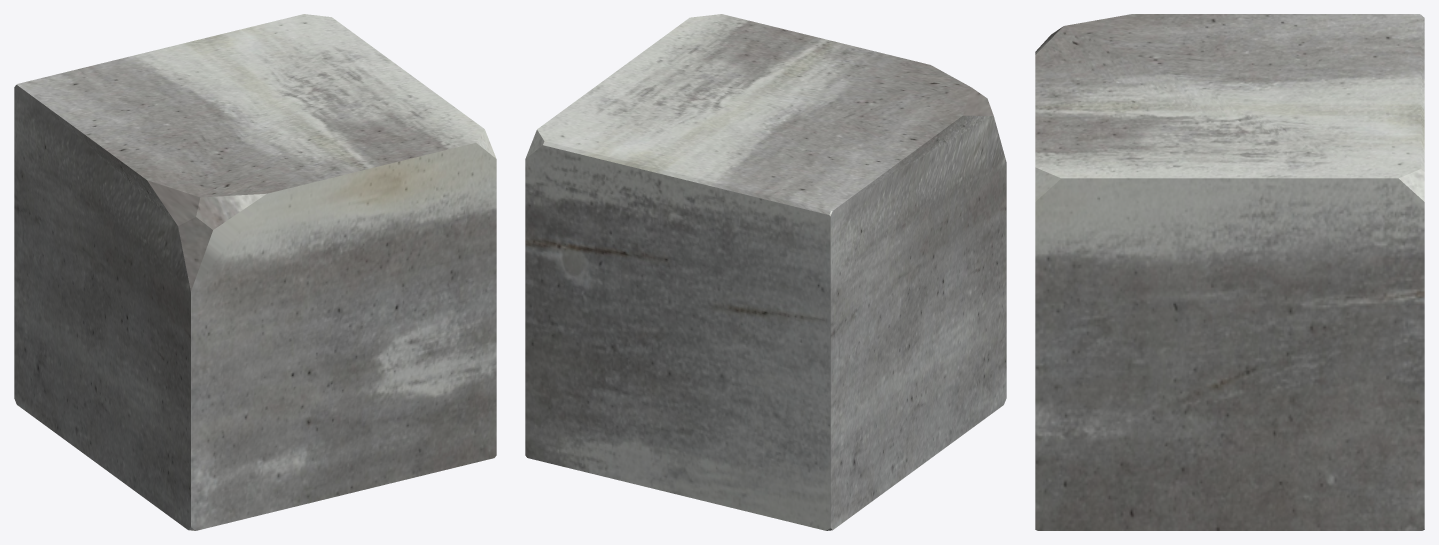
The picture shows the model from 3 angles, left to right: view 1: azimuth 30°, elevation 25°; view 2: azimuth 150°, elevation 25°; view 3: azimuth 270°, elevation 25°; orthographic projection. The views are drawn at different scales.
Parts seen in each view (by area): view 1: Mesh; view 2: Mesh; view 3: Mesh.
Boxes of the visible parts, x1,y1,x2,y2 form: Mesh: (14, 14, 496, 530); Mesh: (525, 14, 1006, 530); Mesh: (1035, 14, 1424, 530).
Size of the model in its own units: 48.82 by 48.82 by 48.82.
